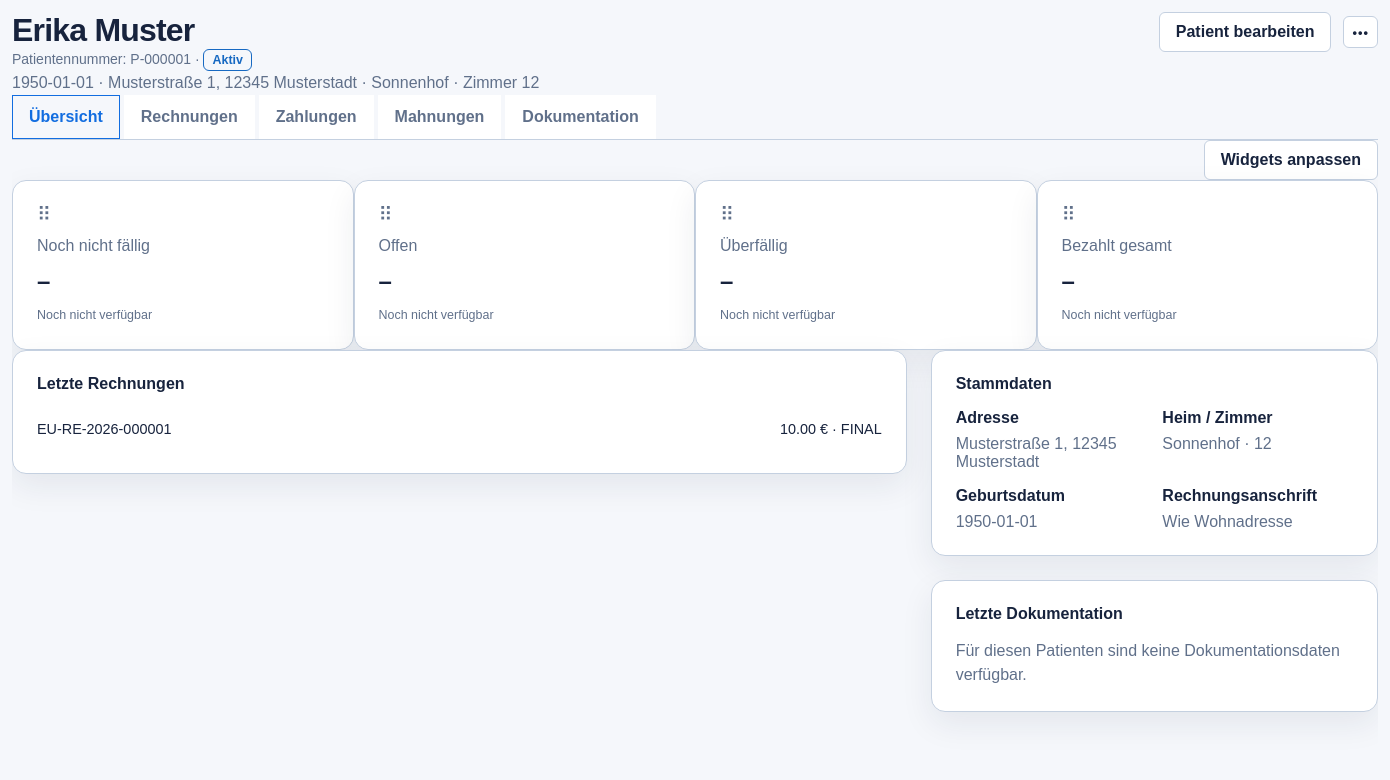
Scenario: Patient detail › loads patient data, renders invoices and empty detail tabs
expect the heading "Erika Muster" is shown: met, box [12,12,194,48]
expect the text "–" is shown 4 times: met, box [37,267,50,294]; [378,267,392,294]; [720,267,733,294]; [1062,267,1075,294]
Click the tab "Rechnungen" at (189, 117), box [124,95,255,139]
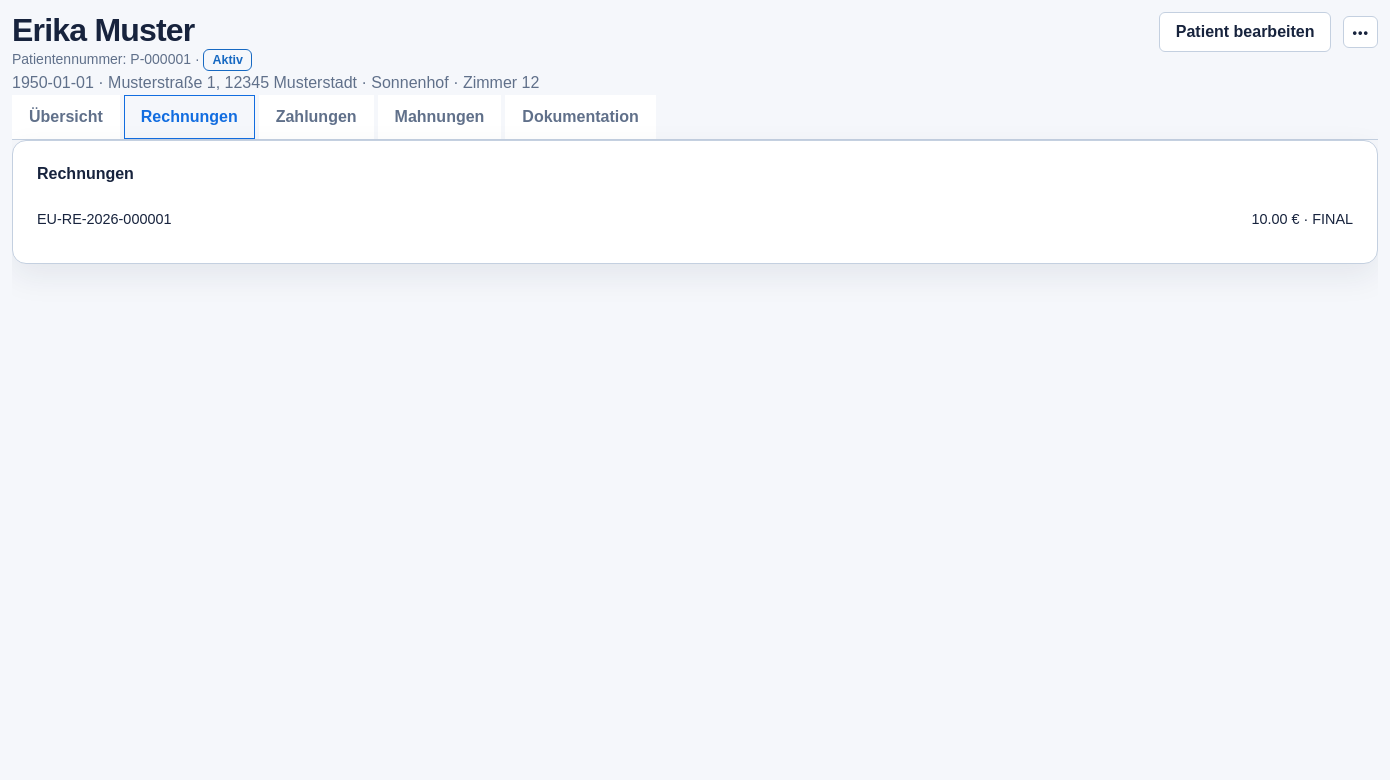
expect the text "EU-RE-2026-000001" is shown: met, box [37,211,171,227]
Click the tab "Dokumentation" at (581, 117), box [505,95,656,139]
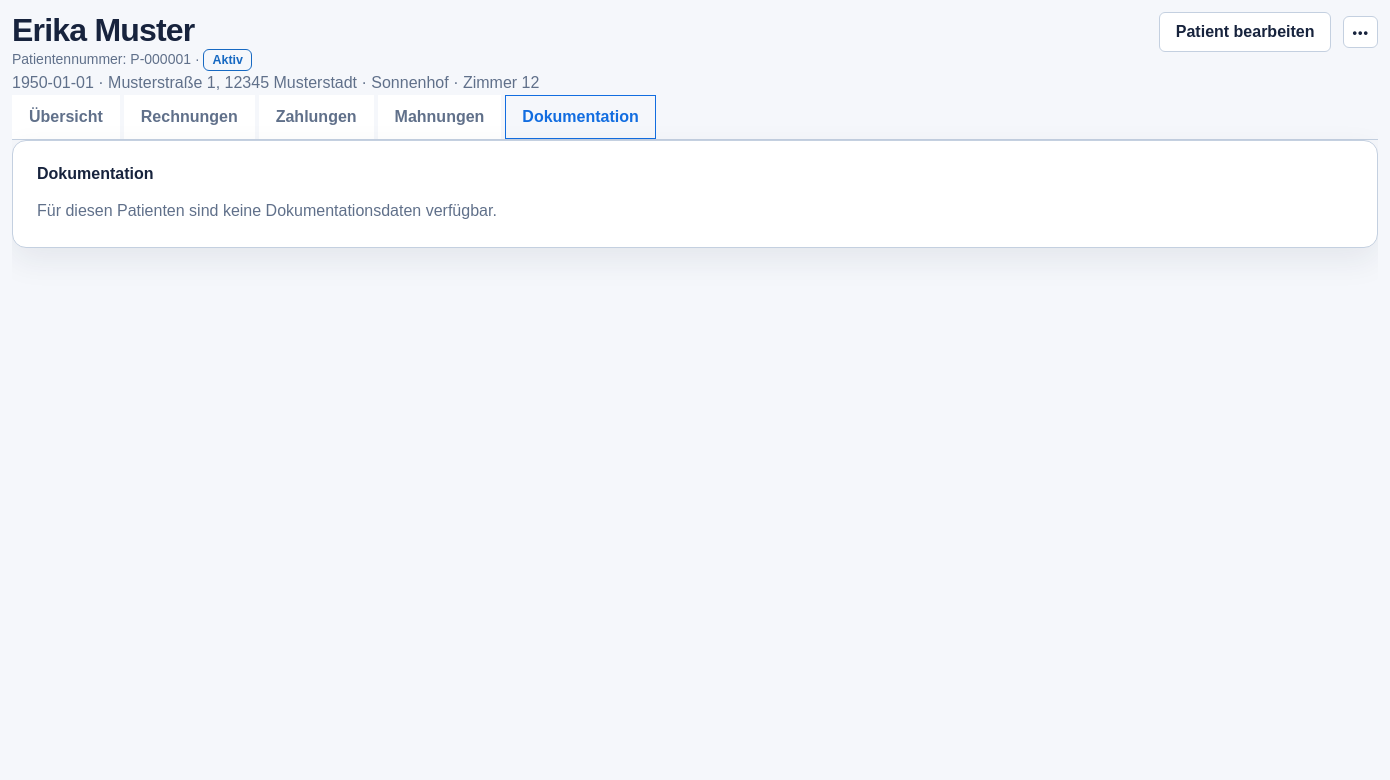
expect the text "Für diesen Patienten sind keine Dokumentationsdaten verfügbar." is shown: met, box [37,202,497,219]
